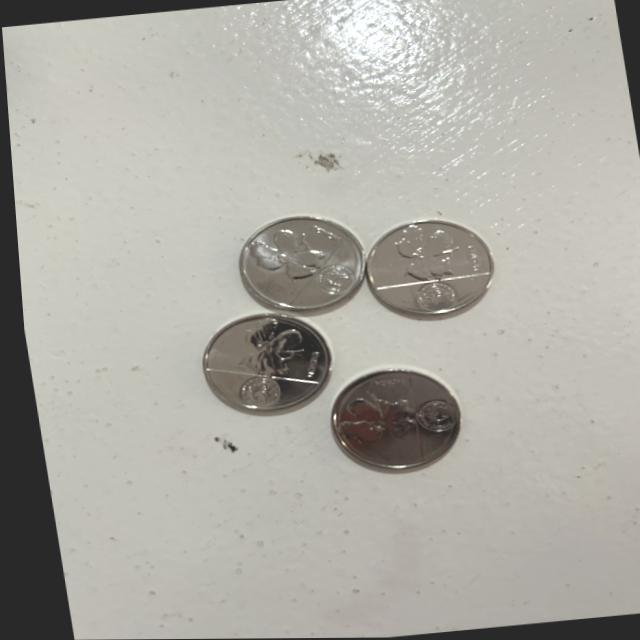25Cent_New_Back: (380, 223, 471, 282), (246, 222, 325, 284), (223, 314, 308, 370), (333, 388, 410, 449)
